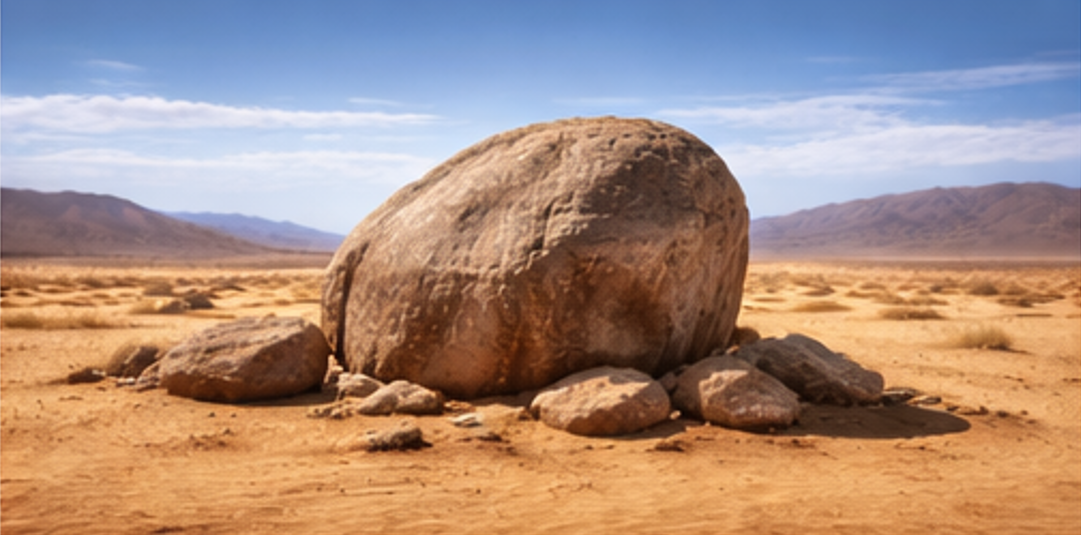rocks: (321, 117, 747, 398), (159, 317, 329, 400), (733, 334, 883, 401), (672, 355, 798, 429), (530, 367, 670, 433), (355, 379, 443, 413)
